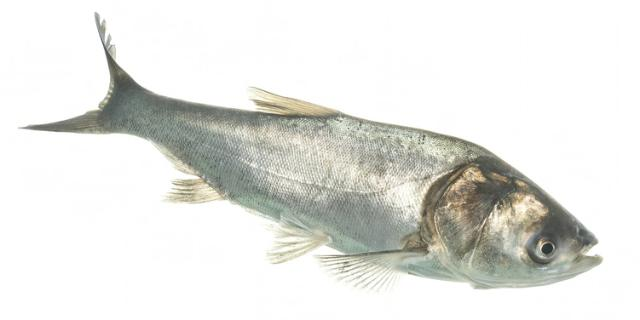Mulut: (566, 223, 606, 277)
Sirip Anal: (136, 133, 230, 220)
Sirip Dada: (306, 235, 436, 297)
Sirip Ekor: (12, 9, 144, 151)
Sirip Perut: (259, 204, 335, 272)
Sirip Punggung: (230, 70, 352, 138)
